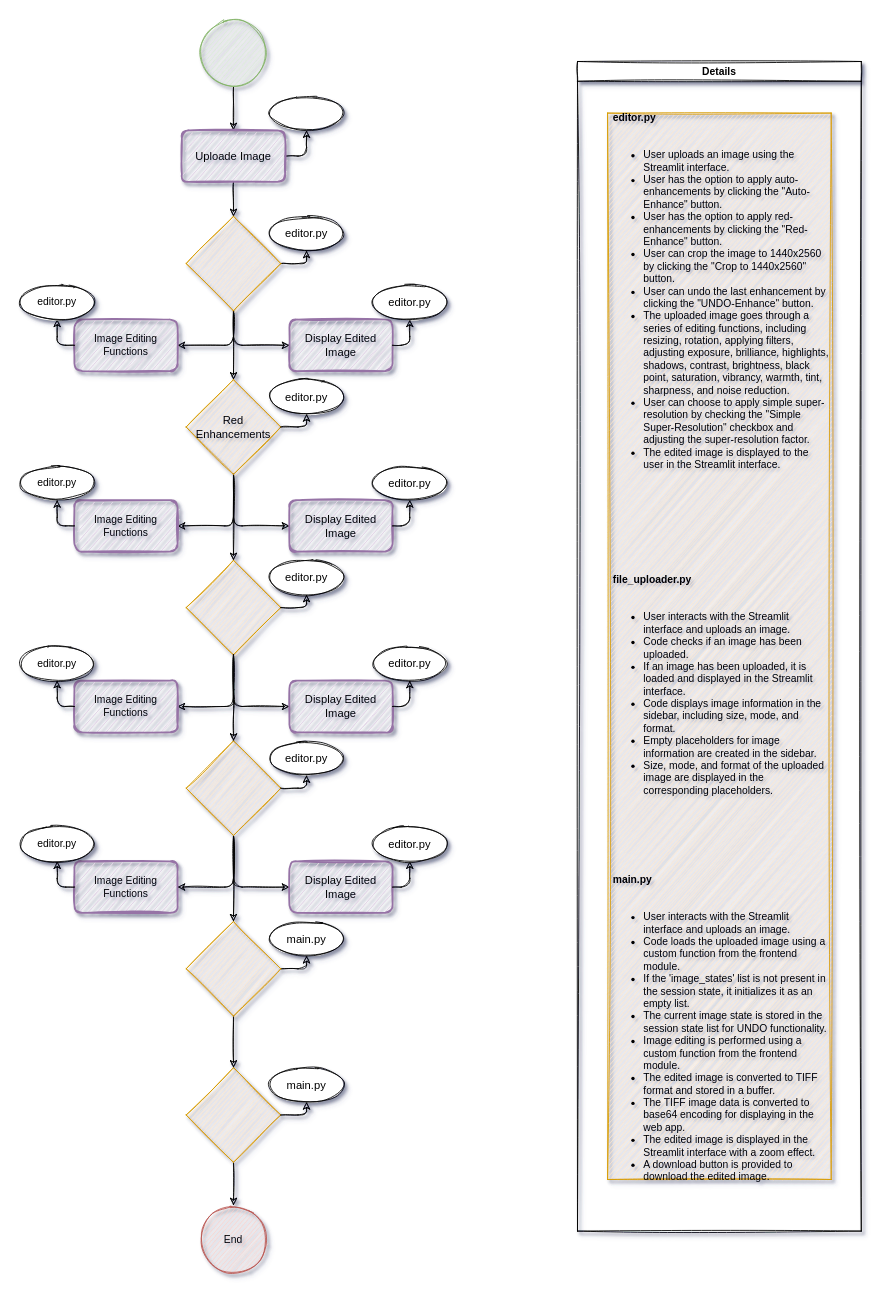
This 887x1300 diagram has some shape labels left out. Here are the shapes that lost their labels. From the top down, the centre of each, then its label:
(234,53): Start
(307,114): file_uploader.py
(234,264): Auto Enhancements
(234,608): Simple Super Resolution
(234,789): Crop 1440x2560
(234,969): Central Hub
(234,1115): Download Button
